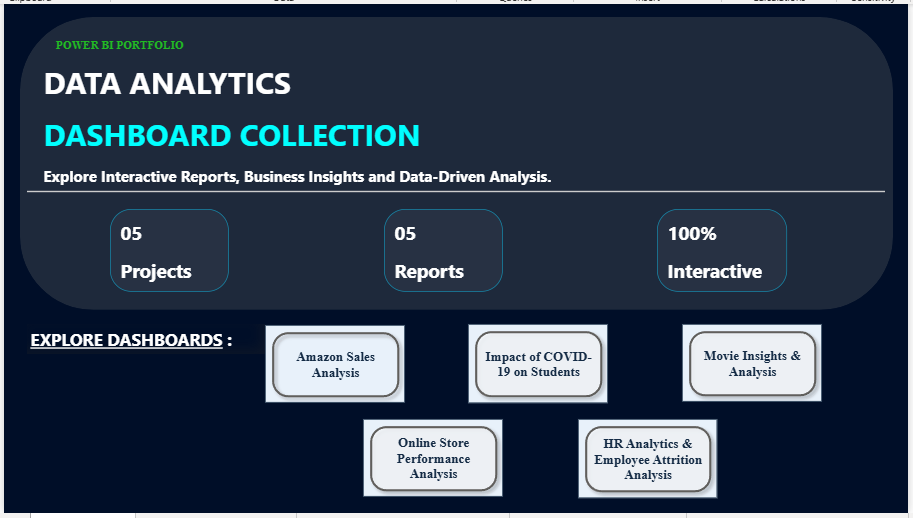

This screenshot's page, from the dashboard's own definition file:
{"tool":"powerbi","page":{"name":"Dashboards","canvas":[1280,720],"ordinal":0},"visuals":[{"type":"actionButton","box":[369.2,454.1,198,110.3],"z":0},{"type":"actionButton","box":[656.3,452.7,198,111.7],"z":1000},{"type":"actionButton","box":[959.1,452.7,198,110.3],"z":2000},{"type":"actionButton","box":[811.9,587,196.6,111.7],"z":3000},{"type":"actionButton","box":[507.8,587,198,110.3],"z":4000},{"type":"shape","box":[22.6,18.4,1234.9,414.5],"z":5000},{"type":"textbox","box":[50.9,45.3,226.3,31.1],"z":6000},{"type":"textbox","box":[50.9,76.4,1127.4,189.5],"z":7000},{"type":"shape","box":[32.5,250.4,1213.7,29.7],"z":8000},{"type":"textbox","box":[149.9,290,168.3,117.4],"z":9000},{"type":"textbox","box":[32.5,452.7,336.7,42.4],"z":10000},{"type":"textbox","box":[537.5,290,168.3,117.4],"z":11000},{"type":"textbox","box":[923.7,290,183.9,117.4],"z":12000}]}

Visuals, with their boxes in screenshot pixels (x1, y1, x2, y2):
actionButton: box=[255, 319, 399, 400]
actionButton: box=[464, 318, 609, 400]
actionButton: box=[685, 318, 830, 399]
actionButton: box=[578, 416, 721, 498]
actionButton: box=[356, 416, 500, 497]
shape: box=[2, 2, 903, 304]
textbox: box=[23, 21, 188, 44]
textbox: box=[23, 44, 845, 182]
shape: box=[9, 171, 895, 192]
textbox: box=[95, 200, 218, 285]
textbox: box=[9, 318, 255, 349]
textbox: box=[378, 200, 500, 285]
textbox: box=[659, 200, 793, 285]
